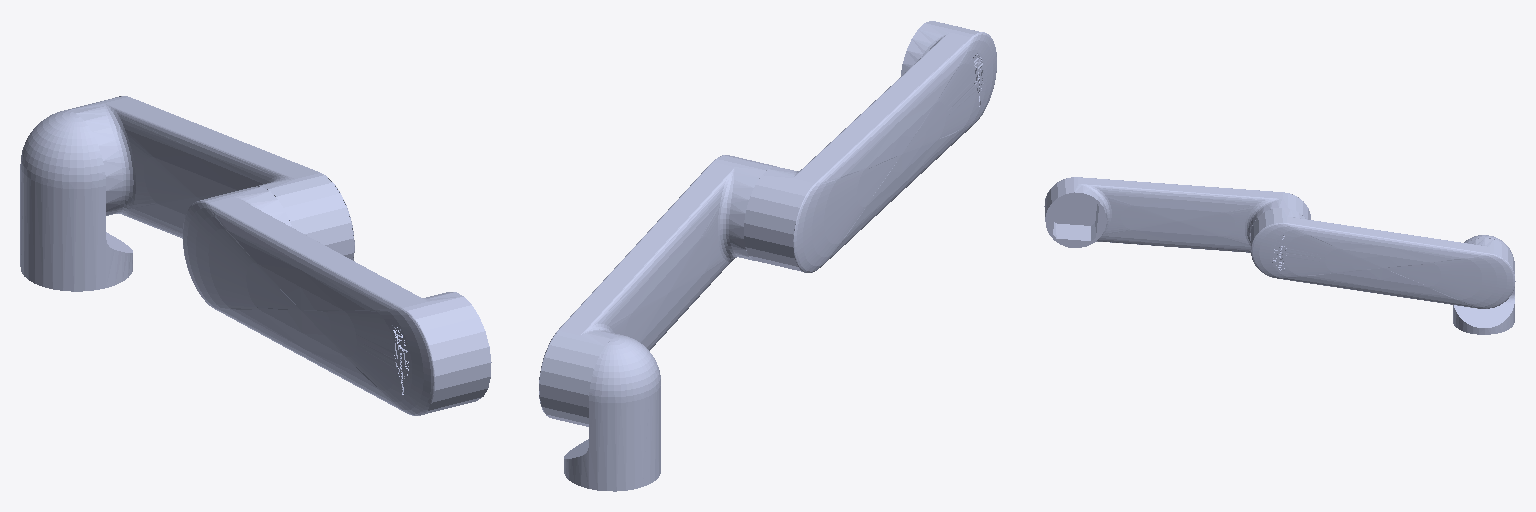
The robot description file, URDF, robot "Assem4.SLDASM":
<?xml version="1.0" encoding="utf-8"?>
<!-- This URDF was automatically created by SolidWorks to URDF Exporter! Originally created by Stephen Brawner (brawner@gmail.com) 
     Commit Version: 1.6.0-4-g7f85cfe  Build Version: 1.6.7995.38578
     For more information, please see http://wiki.ros.org/sw_urdf_exporter -->
<robot
  name="Assem4.SLDASM">
  <link
    name="base_link">
    <inertial>
      <origin
        xyz="-0.194159455887972 -0.0917388725779251 0.244130141706927"
        rpy="0 0 0" />
      <mass
        value="0.137152664065849" />
      <inertia
        ixx="0.000113085446178476"
        ixy="1.28597224963905E-05"
        ixz="-2.18109680812078E-07"
        iyy="4.8682005014185E-05"
        iyz="-2.43354708051784E-07"
        izz="0.000101562882162579" />
    </inertial>
    <visual>
      <origin
        xyz="0 0 0"
        rpy="0 0 0" />
      <geometry>
        <mesh
          filename="package://Assem4.SLDASM/meshes/base_link.STL" />
      </geometry>
      <material
        name="">
        <color
          rgba="0.792156862745098 0.819607843137255 0.933333333333333 1" />
      </material>
    </visual>
    <collision>
      <origin
        xyz="0 0 0"
        rpy="0 0 0" />
      <geometry>
        <mesh
          filename="package://Assem4.SLDASM/meshes/base_link.STL" />
      </geometry>
    </collision>
  </link>
  <link
    name="link0">
    <inertial>
      <origin
        xyz="-0.00835070196872095 0.0348740063996899 5.57324990879682E-08"
        rpy="0 0 0" />
      <mass
        value="0.137152664065849" />
      <inertia
        ixx="0.000113089573280693"
        ixy="1.28620248871669E-05"
        ixz="1.99494453511266E-11"
        iyy="4.8682005014185E-05"
        iyz="1.0375360750851E-12"
        izz="0.000101558755060362" />
    </inertial>
    <visual>
      <origin
        xyz="0 0 0"
        rpy="0 0 0" />
      <geometry>
        <mesh
          filename="package://Assem4.SLDASM/meshes/link0.STL" />
      </geometry>
      <material
        name="">
        <color
          rgba="0.792156862745098 0.819607843137255 0.933333333333333 1" />
      </material>
    </visual>
    <collision>
      <origin
        xyz="0 0 0"
        rpy="0 0 0" />
      <geometry>
        <mesh
          filename="package://Assem4.SLDASM/meshes/link0.STL" />
      </geometry>
    </collision>
  </link>
  <joint
    name="joint0"
    type="fixed">
    <origin
      xyz="-0.185810249819478 -0.243972086655367 -0.126612878977615"
      rpy="1.5707963267949 0 0.0189216137804055" />
    <parent
      link="base_link" />
    <child
      link="link0" />
    <axis
      xyz="0 0 0" />
  </joint>
  <link
    name="link1">
    <inertial>
      <origin
        xyz="-0.0834293794171425 -2.02875618701692E-06 -0.024166126213827"
        rpy="0 0 0" />
      <mass
        value="0.366704750246748" />
      <inertia
        ixx="0.00012736294072155"
        ixy="-7.61287766635057E-08"
        ixz="-2.69022395526234E-05"
        iyy="0.00189457473585642"
        iyz="-6.98463767142371E-10"
        izz="0.00197322993923862" />
    </inertial>
    <visual>
      <origin
        xyz="0 0 0"
        rpy="0 0 0" />
      <geometry>
        <mesh
          filename="package://Assem4.SLDASM/meshes/link1.STL" />
      </geometry>
      <material
        name="">
        <color
          rgba="0.792156862745098 0.819607843137255 0.933333333333333 1" />
      </material>
    </visual>
    <collision>
      <origin
        xyz="0 0 0"
        rpy="0 0 0" />
      <geometry>
        <mesh
          filename="package://Assem4.SLDASM/meshes/link1.STL" />
      </geometry>
    </collision>
  </link>
  <joint
    name="joint1"
    type="continuous">
    <origin
      xyz="0 0.06 0"
      rpy="1.57079632679488 1.39871137927 -1.57079632679491" />
    <parent
      link="link0" />
    <child
      link="link1" />
    <axis
      xyz="0 0 1" />
  </joint>
  <link
    name="link2">
    <inertial>
      <origin
        xyz="-0.0834293854087735 -2.02919242922595E-06 -0.0241661271331371"
        rpy="0 0 0" />
      <mass
        value="0.366704788088245" />
      <inertia
        ixx="0.000127362948407977"
        ixy="-7.6136372281011E-08"
        ixz="-2.69022413756202E-05"
        iyy="0.00189457488856351"
        iyz="-6.98324032778489E-10"
        izz="0.00197323009973326" />
    </inertial>
    <visual>
      <origin
        xyz="0 0 0"
        rpy="0 0 0" />
      <geometry>
        <mesh
          filename="package://Assem4.SLDASM/meshes/link2.STL" />
      </geometry>
      <material
        name="">
        <color
          rgba="0.792156862745098 0.819607843137255 0.933333333333333 1" />
      </material>
    </visual>
    <collision>
      <origin
        xyz="0 0 0"
        rpy="0 0 0" />
      <geometry>
        <mesh
          filename="package://Assem4.SLDASM/meshes/link2.STL" />
      </geometry>
    </collision>
  </link>
  <joint
    name="joint2"
    type="continuous">
    <origin
      xyz="-0.200000000000002 0 0"
      rpy="-3.14159265358979 0 -0.0823720646867807" />
    <parent
      link="link1" />
    <child
      link="link2" />
    <axis
      xyz="0 0 1" />
  </joint>
</robot>

--- Render facts (derived) ---
The picture shows the robot from 3 angles, left to right: view 1: azimuth 30°, elevation 25°; view 2: azimuth 150°, elevation 25°; view 3: azimuth 270°, elevation 25°; orthographic projection.
Model Assem4.SLDASM with 4 links and 3 joints (2 continuous, 1 fixed), rooted at base_link, posed all joints at 0.
Links seen in each view (by area): view 1: link2, link1, base_link; view 2: link2, link1, base_link; view 3: link1, link2, base_link.
Boxes of the visible links, x1,y1,x2,y2 form: link2: (183,187,491,415); link1: (68,96,354,260); base_link: (20,110,132,291); link2: (744,21,996,272); link1: (539,155,776,426); base_link: (564,335,660,491); link1: (1250,208,1515,308); link2: (1044,177,1310,252); base_link: (1453,235,1514,334).
Size in the robot's own frame: 0.0777 by 0.4575 by 0.1421 metres.
Meshes: 4 distinct files referenced, 4 mesh visuals loaded (4 binary STL).
